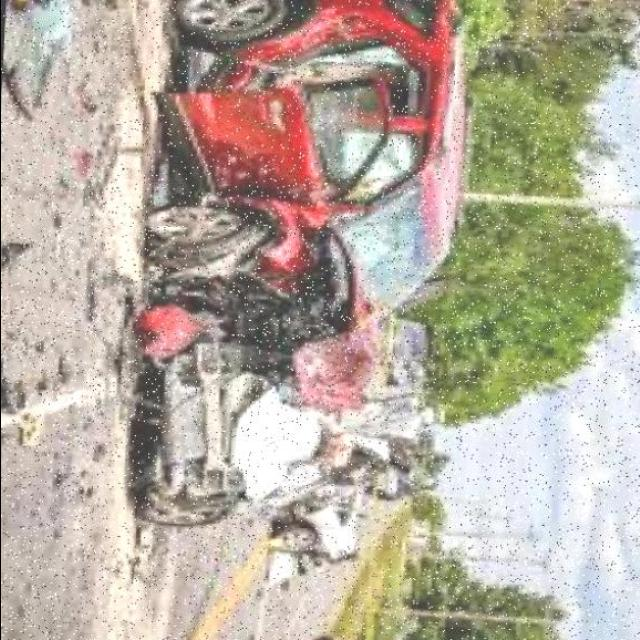accident: (120, 0, 496, 590)
